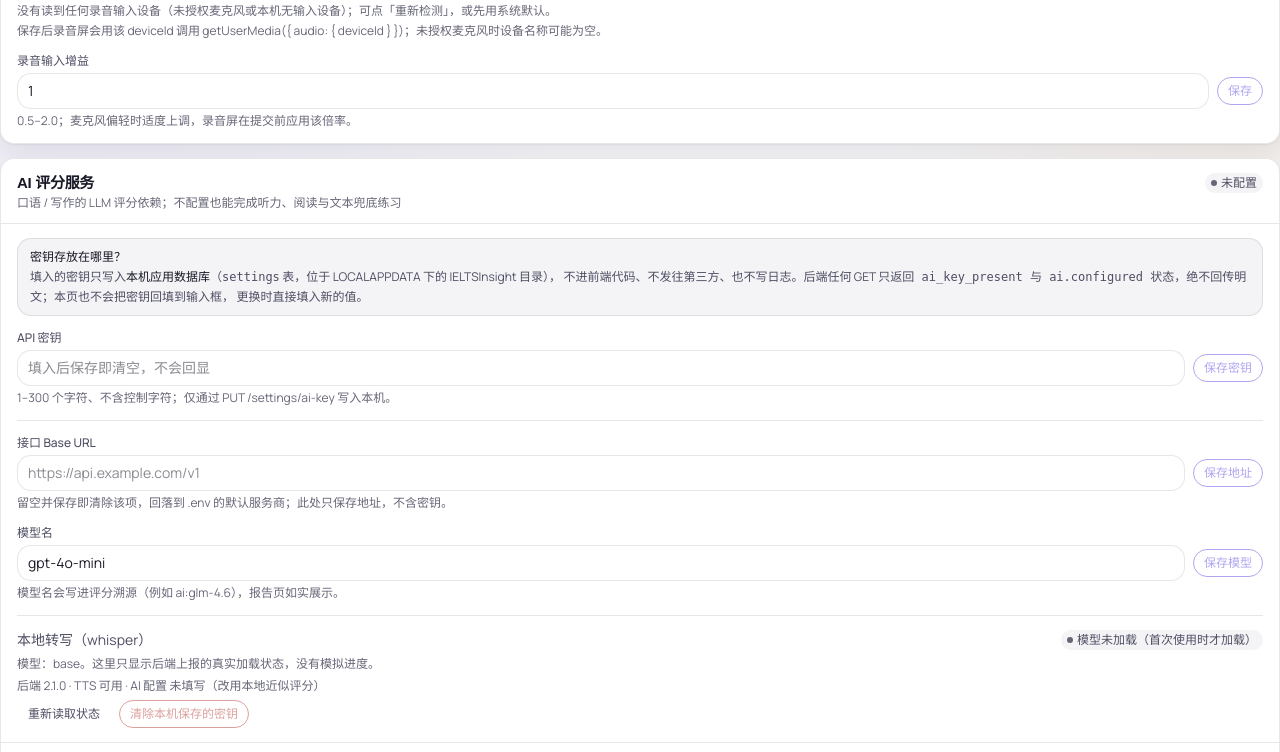
Test case: 磁贴条（契约 §8.3） › 配好密钥后 AI 那块整块消失，不给「已配置」留一块报平安的砖
(page scrolled)
Step 1. Type "sk-strip-check" into the password field with id "setting-ai-key" → (601, 368), box [17, 350, 1185, 386]
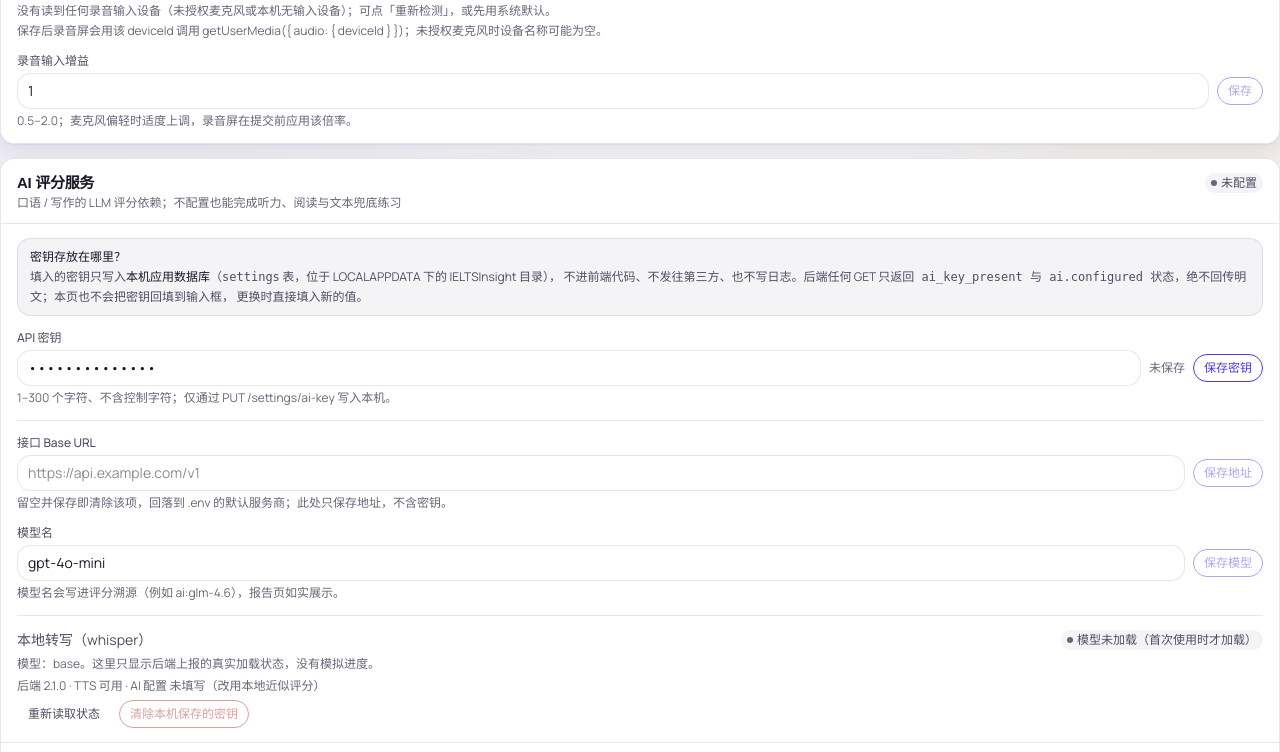
Step 2. Click the button "保存密钥" → (1228, 368), box [1193, 354, 1263, 382]
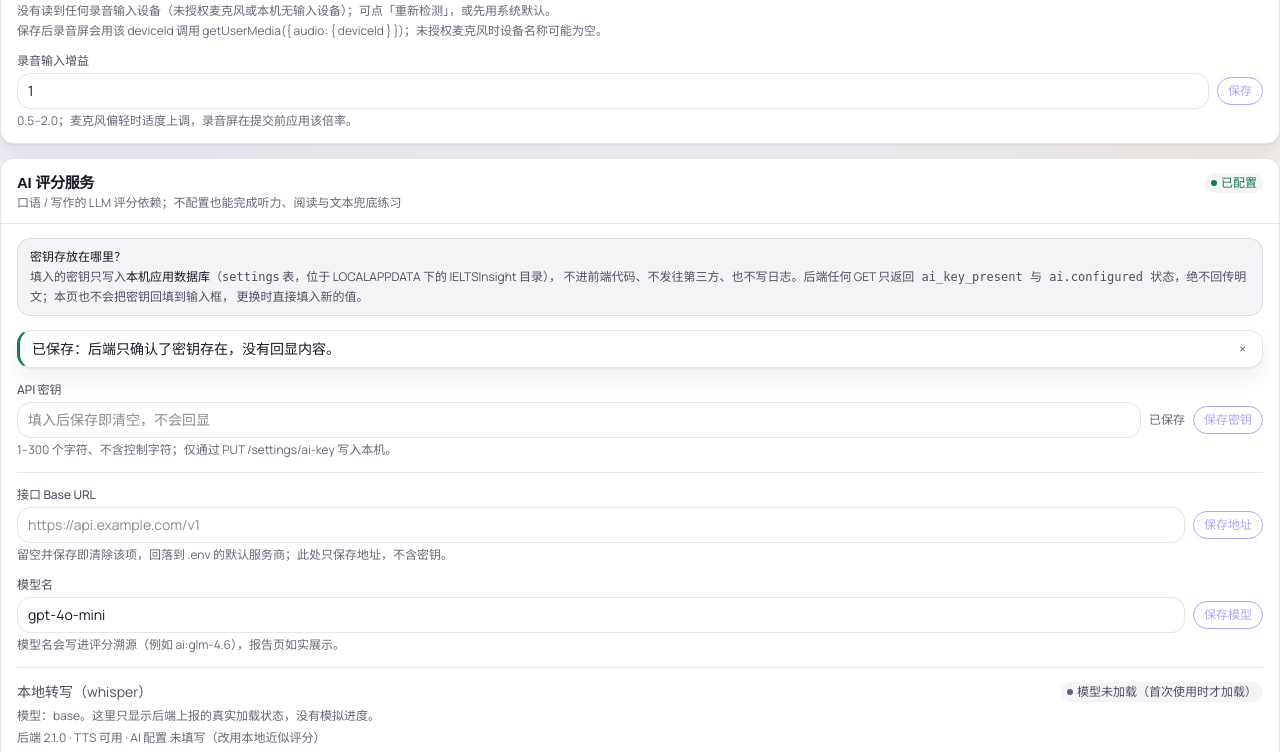
Now the text "已配置" is shown, box [1205, 173, 1263, 193]
